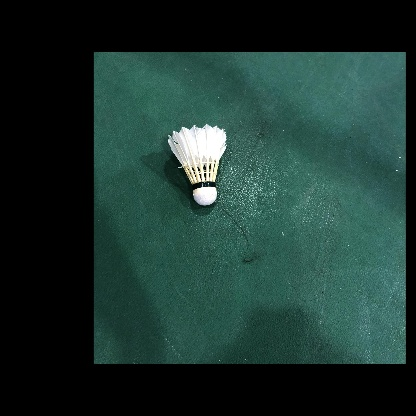ball_single: (168, 124, 227, 205)
